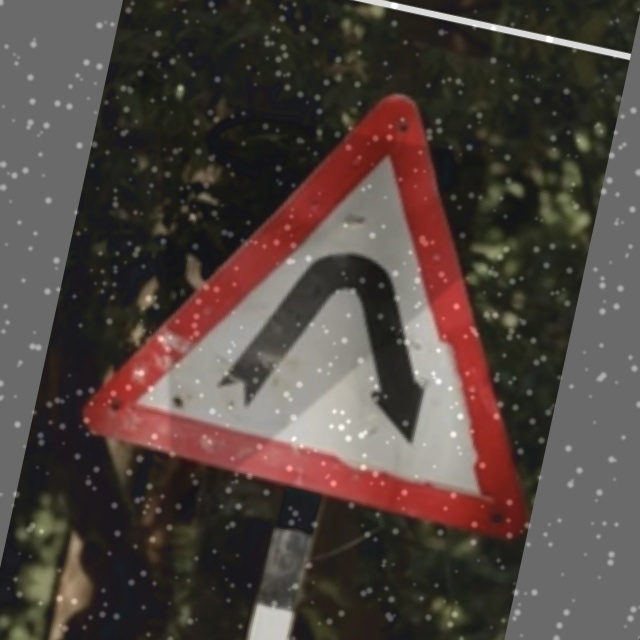Right_Hair_Pin_Bend: (79, 46, 591, 537)
